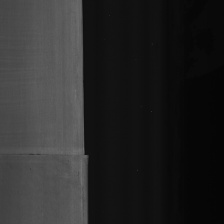welding_line: (1, 144, 91, 164)
